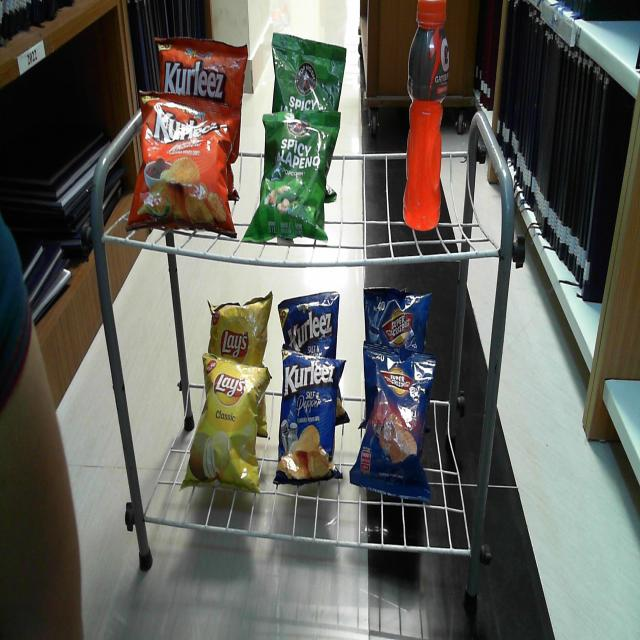Plastic: (128, 95, 238, 238), (245, 113, 337, 243), (354, 354, 436, 498), (185, 354, 269, 491), (402, 0, 452, 230), (278, 352, 344, 488), (271, 29, 348, 110), (155, 33, 249, 96), (206, 290, 274, 356), (364, 288, 434, 348), (280, 289, 341, 352)
